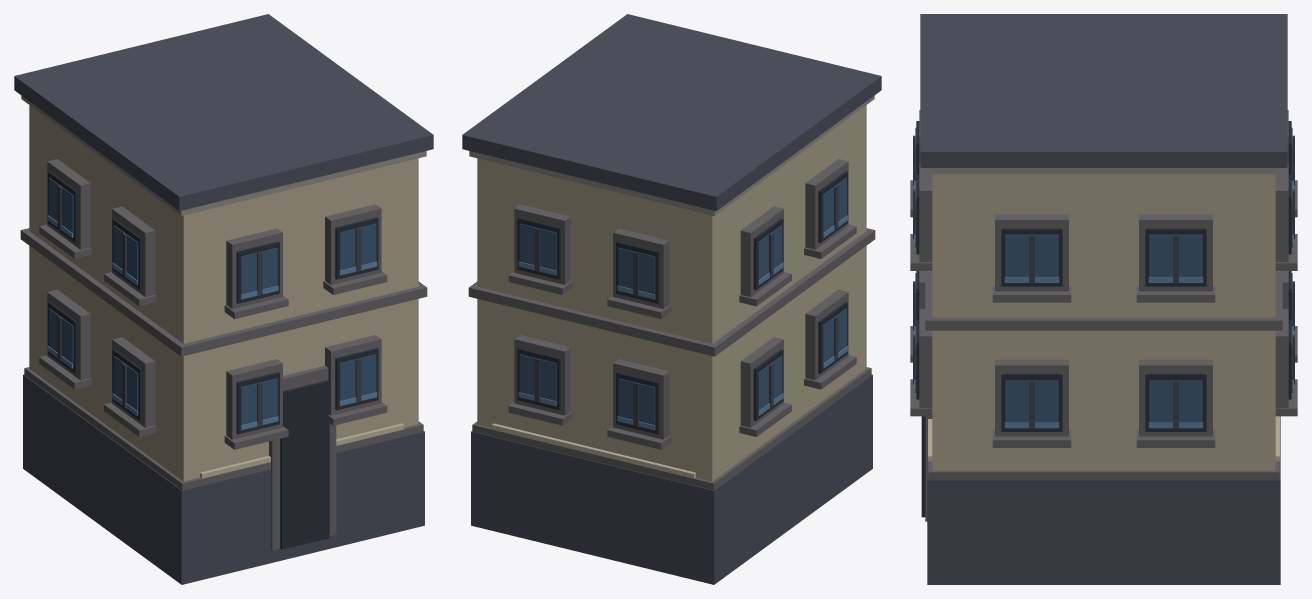
Rendered from TallTownhouse.obj.
The picture shows the model from 3 angles, left to right: view 1: azimuth 30°, elevation 25°; view 2: azimuth 150°, elevation 25°; view 3: azimuth 270°, elevation 25°; orthographic projection. The views are drawn at different scales.
Visible parts, largest first — view 1: TallTownhouse; view 2: TallTownhouse; view 3: TallTownhouse.
Part boxes in pixels (left/top/right/bottom): TallTownhouse: left=14, top=14, right=433, bottom=584; TallTownhouse: left=462, top=14, right=881, bottom=584; TallTownhouse: left=910, top=14, right=1297, bottom=584.
Bounding box in the file's own units: 0.928 × 1.29 × 1.04.
